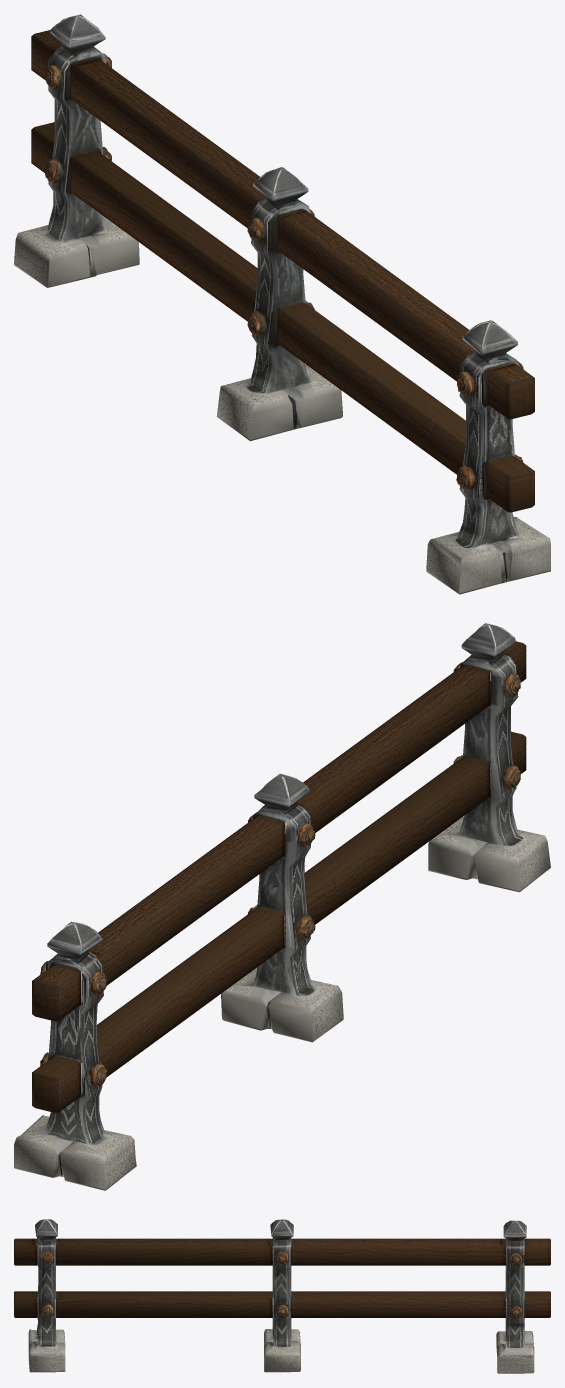
The model's file is tripo_convert_7db38d40-facd-4765-8cb5-2142c6a45549.fbx.
3 renders of one model, top to bottom at view 1: azimuth 30°, elevation 25°; view 2: azimuth 150°, elevation 25°; view 3: azimuth 270°, elevation 25°, orthographic. The views are drawn at different scales.
Parts seen in each view (by area): view 1: tripo_node_7db38d40; view 2: tripo_node_7db38d40; view 3: tripo_node_7db38d40.
Boxes of the visible parts, bbox=[...] form: tripo_node_7db38d40: bbox=[14, 14, 550, 594]; tripo_node_7db38d40: bbox=[14, 623, 550, 1190]; tripo_node_7db38d40: bbox=[14, 1219, 550, 1373].
Bounding box in the file's own units: 0.1191 × 0.2871 × 0.998.
Materials: 1 (1 with a texture image).
